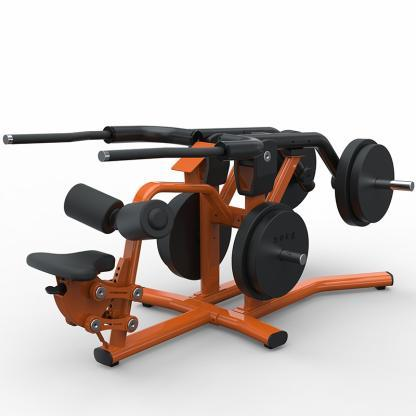seated dip machine: (3, 125, 415, 367)
